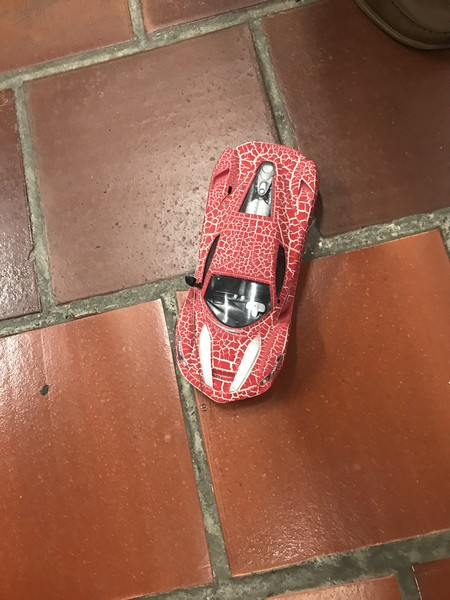RC: (172, 139, 324, 404)
